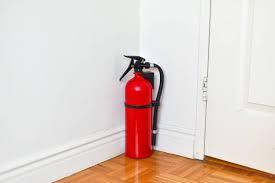floor-kept: (114, 51, 175, 161)
